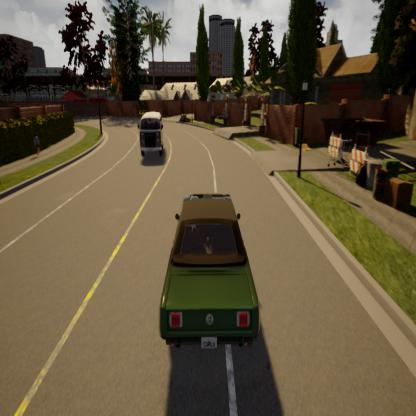Cars: (156, 180, 270, 367), (130, 97, 169, 174)
